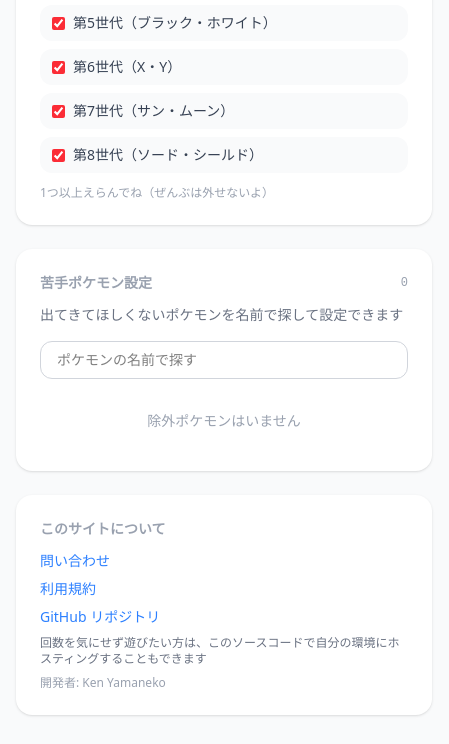
[設定] 苦手ポケモン設定 › 正常系 › 除外ポケモンがいない状態で、「ゴル」と入力して検索結果の「ゴルバット」を選んだとき › 除外ポケモンの一覧に「#042」と「ゴルバット」が表示される
(page scrolled)
Type "ゴル" into the field with placeholder "ポケモンの名前で探す".
click(224, 360); type("ゴル")  # box top-left (40, 341), bottom-right (408, 379)
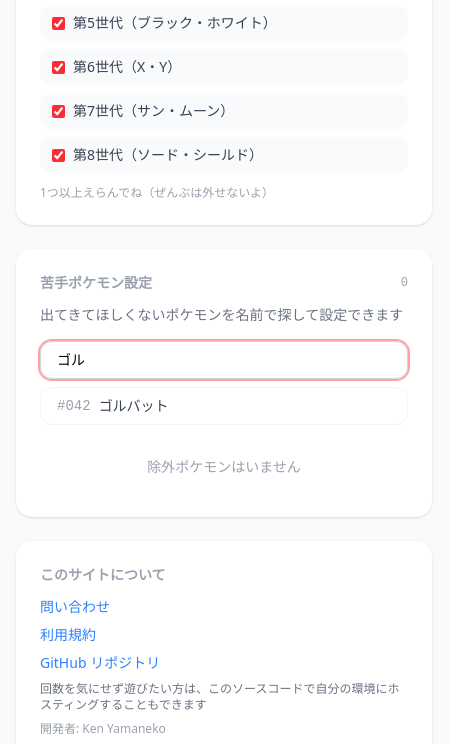
Click the button "#042 ゴルバット".
click(134, 406)  # box top-left (41, 388), bottom-right (407, 424)
(page scrolled)
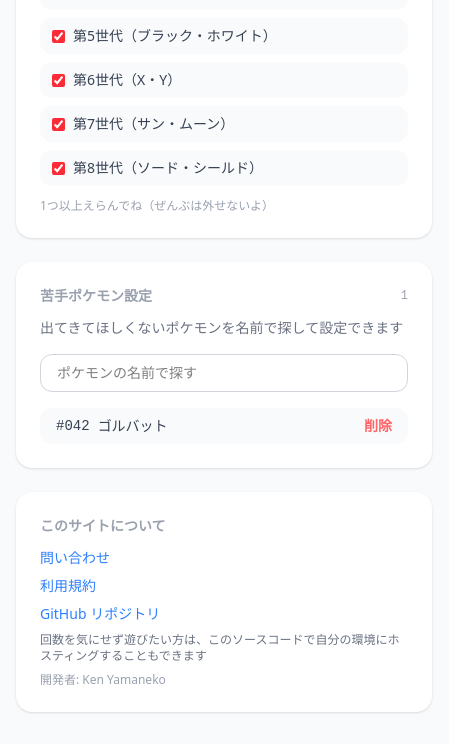
Now the text "#042" is shown, box top-left (56, 416), bottom-right (90, 436)
Now the text "ゴルバット" is shown, box top-left (98, 416), bottom-right (168, 436)
Now the text "除外ポケモンはいません" is gone
